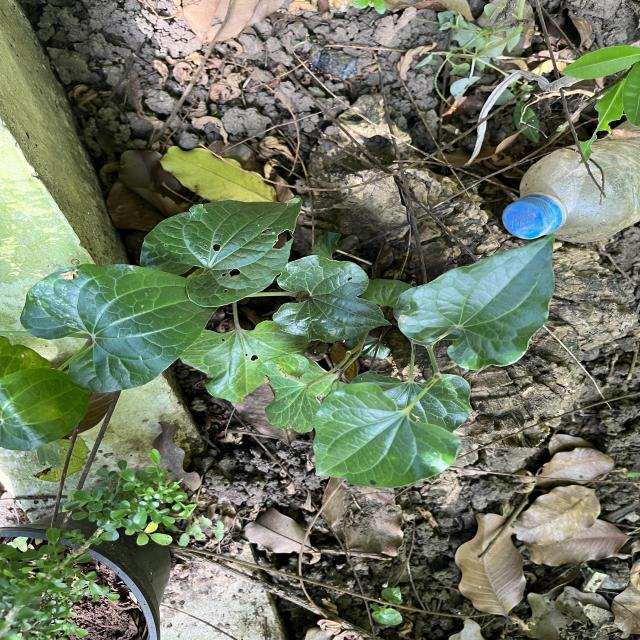Piper longum: (17, 262, 223, 395), (270, 253, 397, 345)
